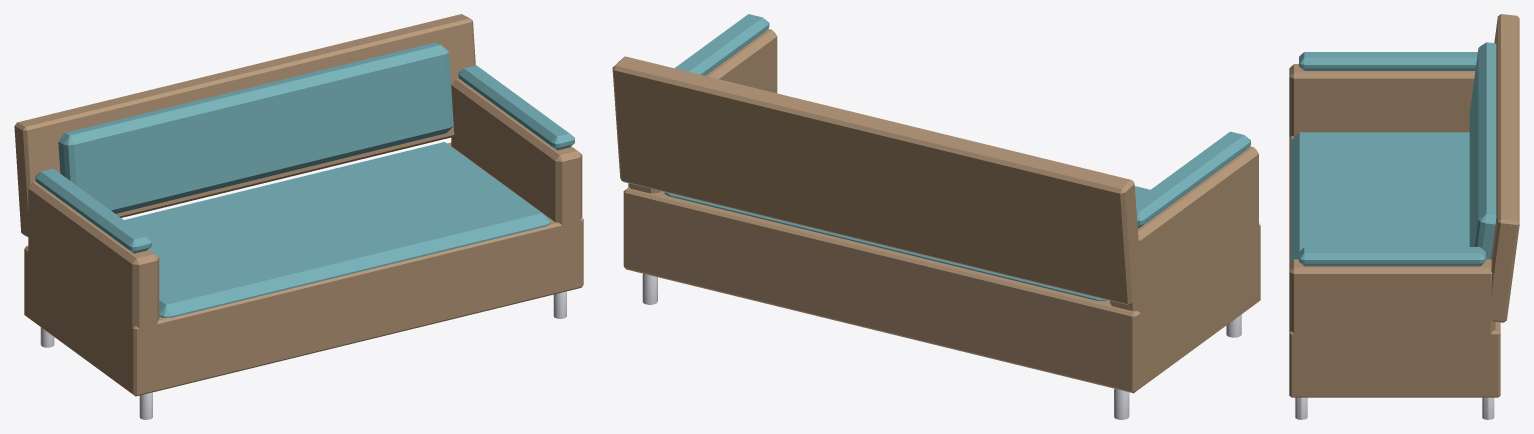
The model's file is 35490_Chat_Show_Sofa__TV_Studio_and_Broadcast_Gallery_.glb.
3 views of the same model, side by side, from view 1: azimuth 30°, elevation 25°; view 2: azimuth 150°, elevation 25°; view 3: azimuth 270°, elevation 25° (orthographic). The views are drawn at different scales.
Parts seen in each view (by area): view 1: chat-show-sofa; view 2: chat-show-sofa; view 3: chat-show-sofa.
Boxes of the visible parts, x1,y1,x2,y2 form: chat-show-sofa: (14, 14, 583, 419); chat-show-sofa: (612, 14, 1260, 419); chat-show-sofa: (1289, 14, 1519, 419).
Bounding box in the file's own units: 2 × 0.9207 × 0.9383.
